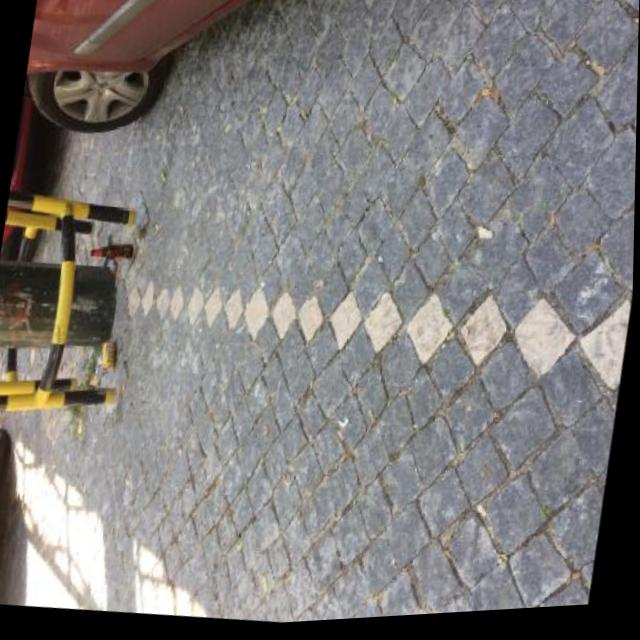glass: (90, 238, 136, 264)
metal: (100, 339, 120, 372)
